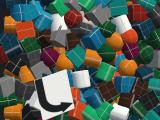Left: (34, 69, 74, 120)
